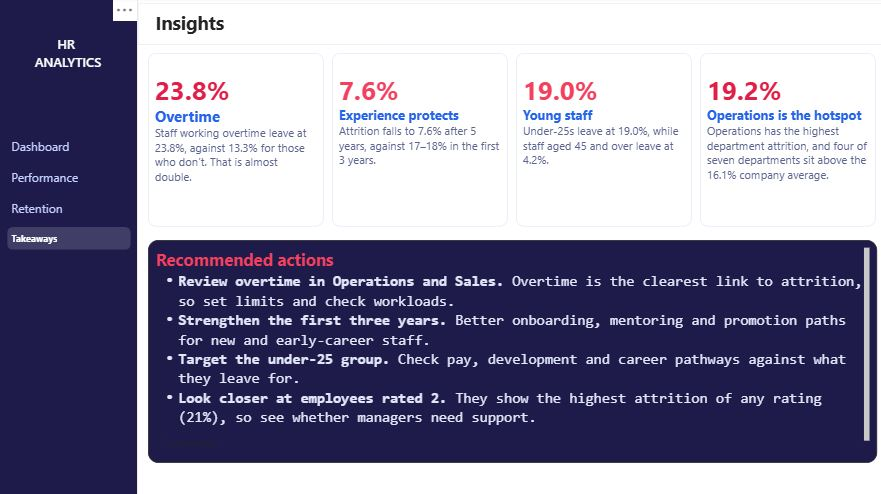

The dashboard page shown, as its layout file describes it:
{"tool":"powerbi","page":{"name":"Takeaways","canvas":[1280,720],"ordinal":3},"visuals":[{"type":"shape","title":"Sidebar","box":[0,0,200,720],"z":0},{"type":"pageNavigator","title":"PageNav","box":[5.1,190,190,180],"z":1000},{"type":"shape","title":"Header","box":[200,9,1080,60],"z":2000},{"type":"textbox","box":[220.5,13.7,314.4,54.7],"z":3000},{"type":"textbox","box":[215,80,253,250],"z":4000},{"type":"textbox","box":[480,80,253,250],"z":5000},{"type":"textbox","box":[745,80,253,250],"z":6000},{"type":"textbox","box":[1010,80,253,250],"z":7000},{"type":"textbox","box":[214.6,349.9,1049.8,289.4],"z":8000},{"type":"textbox","box":[30,50,138,70],"z":9000}]}

Visuals, with their boxes on the page's 1280x720 design canvas (x1, y1, x2, y2). These are canvas units, not pixel positions in the 881x494 screenshot, which may show the page scaled, cropped or inside an application window:
"Sidebar" shape: <bbox>0, 0, 200, 720</bbox>
"PageNav" pageNavigator: <bbox>5, 190, 195, 370</bbox>
"Header" shape: <bbox>200, 9, 1280, 69</bbox>
textbox: <bbox>220, 14, 535, 68</bbox>
textbox: <bbox>215, 80, 468, 330</bbox>
textbox: <bbox>480, 80, 733, 330</bbox>
textbox: <bbox>745, 80, 998, 330</bbox>
textbox: <bbox>1010, 80, 1263, 330</bbox>
textbox: <bbox>215, 350, 1264, 639</bbox>
textbox: <bbox>30, 50, 168, 120</bbox>
